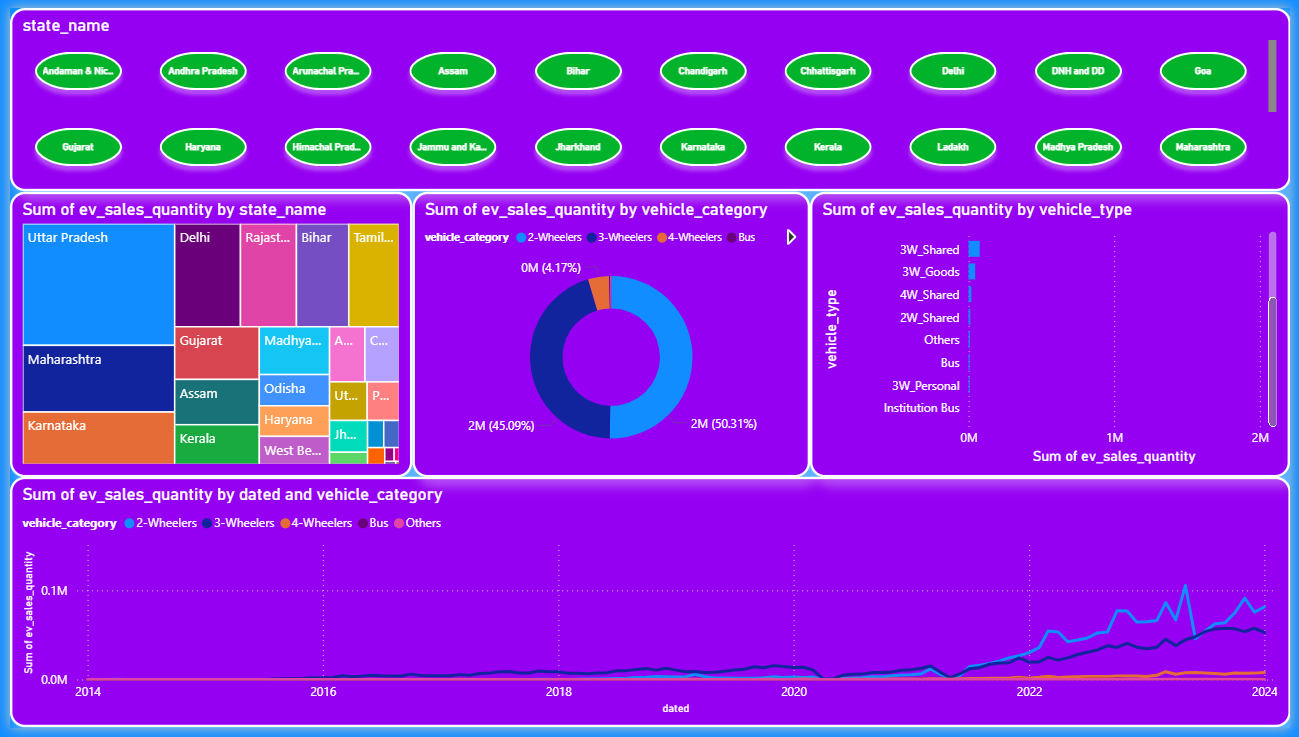

What the dashboard file says about the page in this screenshot:
{"tool":"powerbi","page":{"name":"Page 1","canvas":[1280,720],"ordinal":0},"visuals":[{"type":"treemap","fields":{"Group":["ev_sales_statewise_india.state_name"],"Values":["Sum(ev_sales_statewise_india.ev_sales_quantity)"]},"box":[0,183.4,402.6,285.9],"z":0},{"type":"lineChart","fields":{"Category":["ev_sales_statewise_india.dated"],"Y":["Sum(ev_sales_statewise_india.ev_sales_quantity)"],"Series":["ev_sales_statewise_india.vehicle_category"]},"box":[0,469.4,1280.6,250.8],"z":1000},{"type":"donutChart","fields":{"Y":["Sum(ev_sales_statewise_india.ev_sales_quantity)"],"Series":["ev_sales_statewise_india.vehicle_category"]},"box":[402.6,183.4,397.8,285.9],"z":2000},{"type":"actionButton","box":[0,0,100,40],"z":3000},{"type":"barChart","fields":{"Category":["ev_sales_statewise_india.vehicle_type"],"Y":["Sum(ev_sales_statewise_india.ev_sales_quantity)"]},"box":[800.4,183.4,480,285.9],"z":4000},{"type":"advancedSlicerVisual","fields":{"Values":["ev_sales_statewise_india.state_name"]},"box":[0,0,1280.5,183.4],"z":5000}]}

Visuals, with their boxes in screenshot pixels (x1, y1, x2, y2), scaled from the page's 1280x720 canvas onto the 1299x737 screenshot:
treemap - ev_sales_statewise_india.state_name x Sum(ev_sales_statewise_india.ev_sales_quantity): 0, 188, 409, 480
lineChart - ev_sales_statewise_india.dated x Sum(ev_sales_statewise_india.ev_sales_quantity): 0, 480, 1298, 736
donutChart - Sum(ev_sales_statewise_india.ev_sales_quantity) x ev_sales_statewise_india.vehicle_category: 409, 188, 812, 480
actionButton: 0, 0, 101, 41
barChart - ev_sales_statewise_india.vehicle_type x Sum(ev_sales_statewise_india.ev_sales_quantity): 812, 188, 1298, 480
advancedSlicerVisual - ev_sales_statewise_india.state_name: 0, 0, 1298, 188
